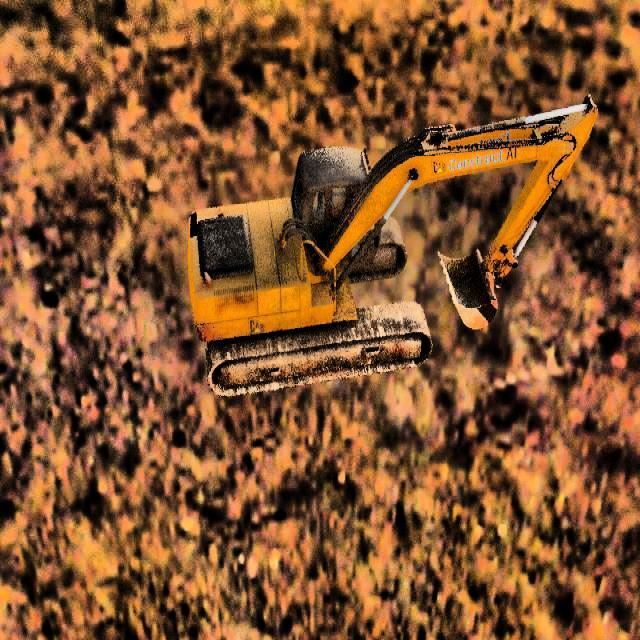excavator: (187, 94, 598, 398)
